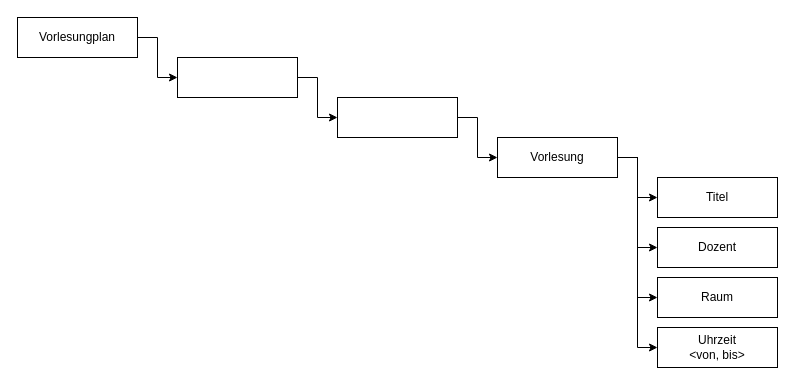
This 795x385 diagram has some shape labels left out. Each missing label, with the centre of its shape:
"Tag <Wochentag>" belongs at point (397, 117).
"Woche <KW>" belongs at point (237, 77).
